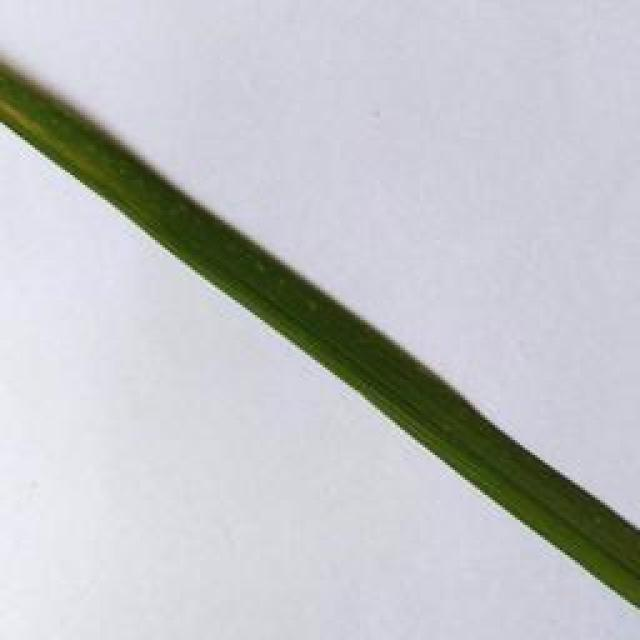Rice_Blast: (0, 82, 28, 140)
